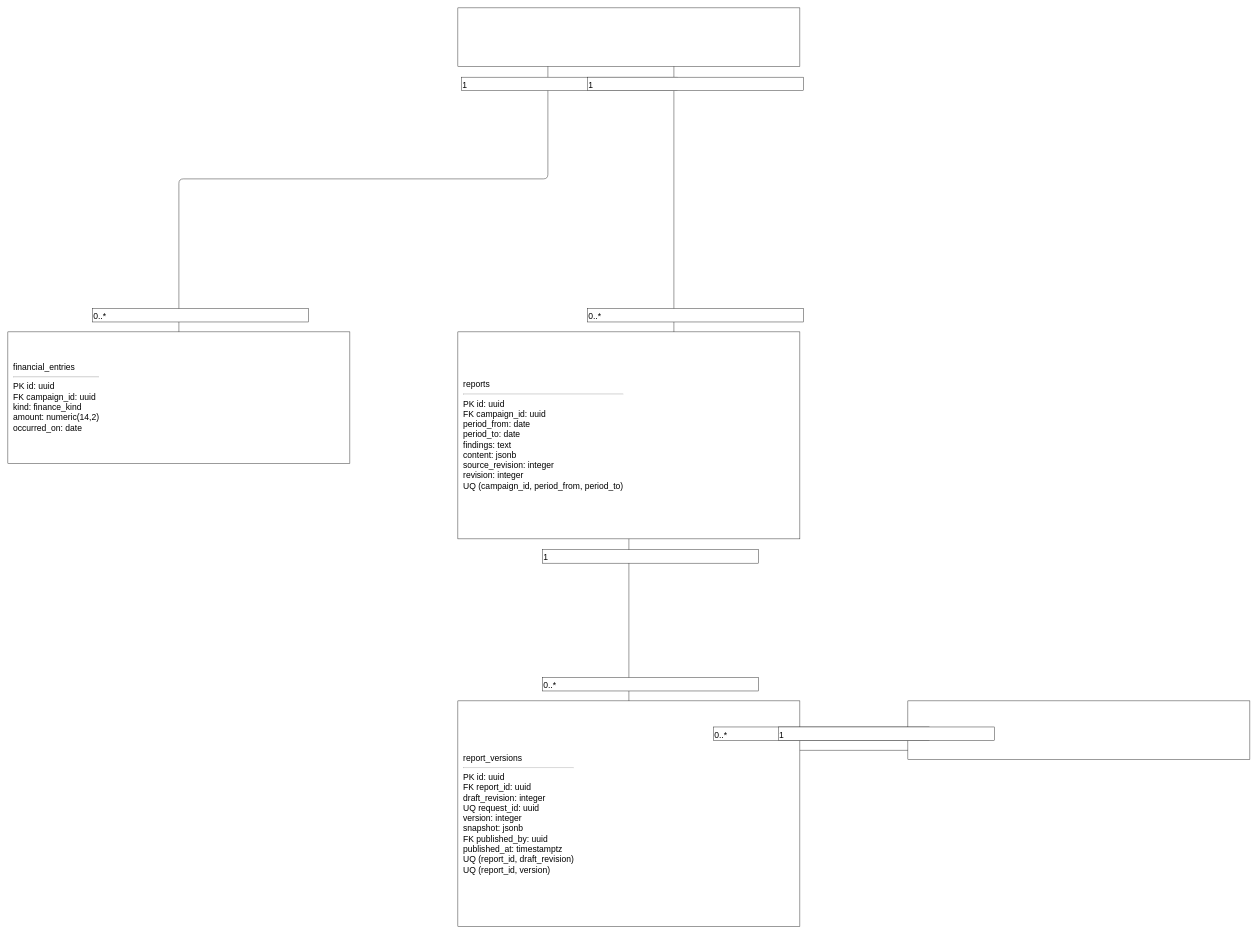
This 1258x935 diagram has some shape labels left out. Here are the shapes that lost their labels. From the top down, the centre of each, then its label:
At [628,36]: "«reference» campaigns PK id: uuid".
At [1078,729]: "«reference» users PK id: uuid".
